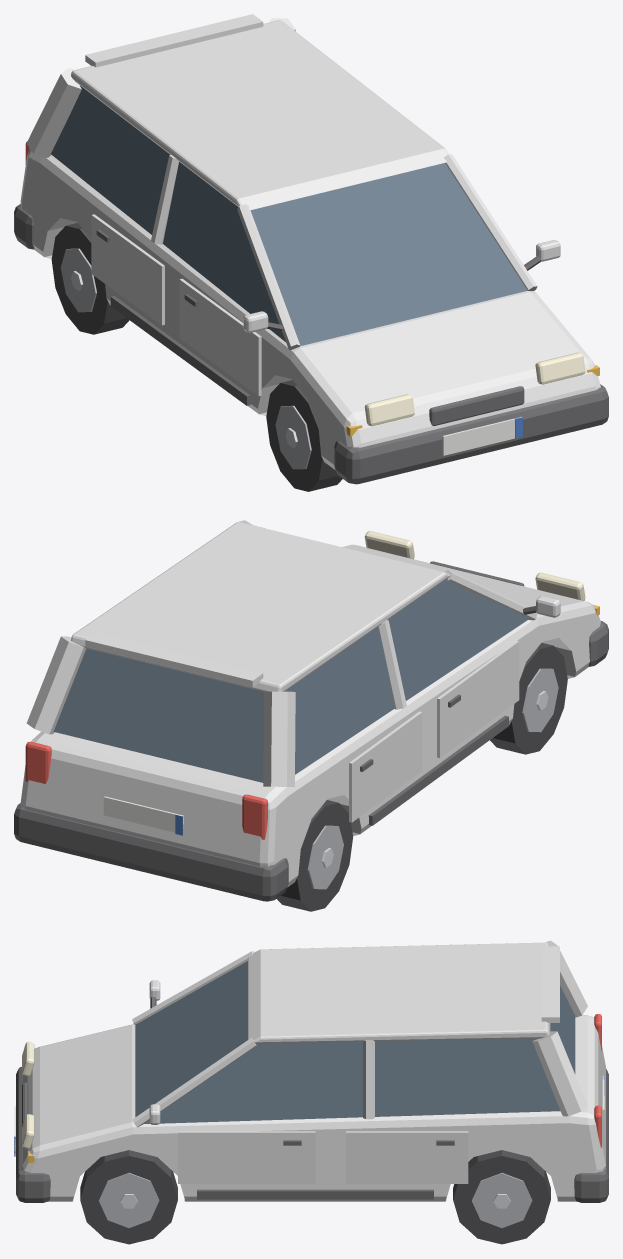
Rendered from car-small.glb.
3 renders of one model, top to bottom at view 1: azimuth 30°, elevation 25°; view 2: azimuth 150°, elevation 25°; view 3: azimuth 270°, elevation 25°, orthographic. The views are drawn at different scales.
Visible parts, largest first — view 1: body, detach_bumper_front, detach_door_right, wheel-front-right, wheel-back-right, detach_bumper_back; view 2: body, detach_bumper_back, detach_door_right, wheel-back-right, wheel-front-right, detach_bumper_front, detach_mirror_right; view 3: body, detach_door_left, wheel-front-left, wheel-back-left, detach_bumper_front, detach_bumper_back.
Boxes of the visible parts, box(x1,y1,x2,y2) form: body: box(20, 14, 600, 469); detach_bumper_front: box(334, 384, 608, 484); detach_door_right: box(179, 278, 261, 396); wheel-front-right: box(266, 380, 342, 491); wheel-back-right: box(51, 223, 129, 334); detach_bumper_back: box(14, 204, 34, 249); body: box(20, 520, 600, 887); detach_bumper_back: box(14, 803, 288, 901); detach_door_right: box(437, 640, 519, 757); wheel-back-right: box(277, 800, 353, 911); wheel-front-right: box(490, 642, 567, 754); detach_bumper_front: box(588, 621, 608, 666); detach_mirror_right: box(523, 596, 560, 617); body: box(22, 940, 605, 1201); detach_door_left: box(178, 1131, 315, 1183); wheel-front-left: box(80, 1150, 177, 1244); wheel-back-left: box(453, 1150, 550, 1244); detach_bumper_front: box(14, 1067, 50, 1202); detach_bumper_back: box(574, 1068, 608, 1202).
Bounding box in the file's own units: 2.06 × 1.52 × 3.89.
